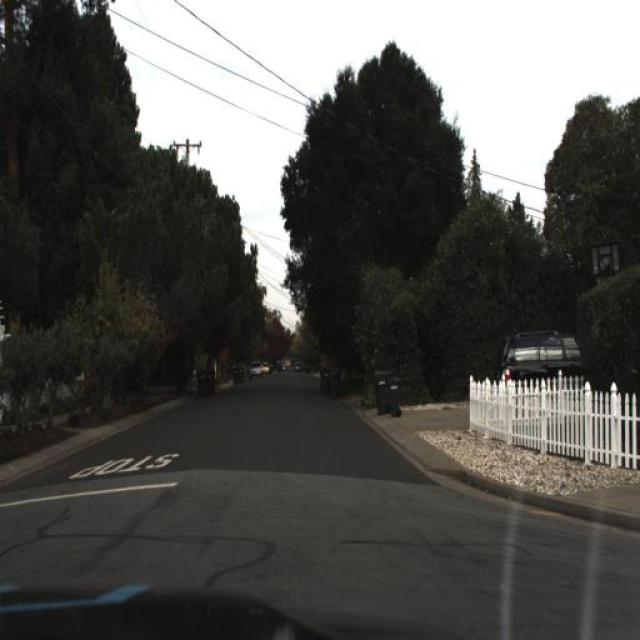car: (490, 320, 588, 390), (248, 360, 262, 380)
